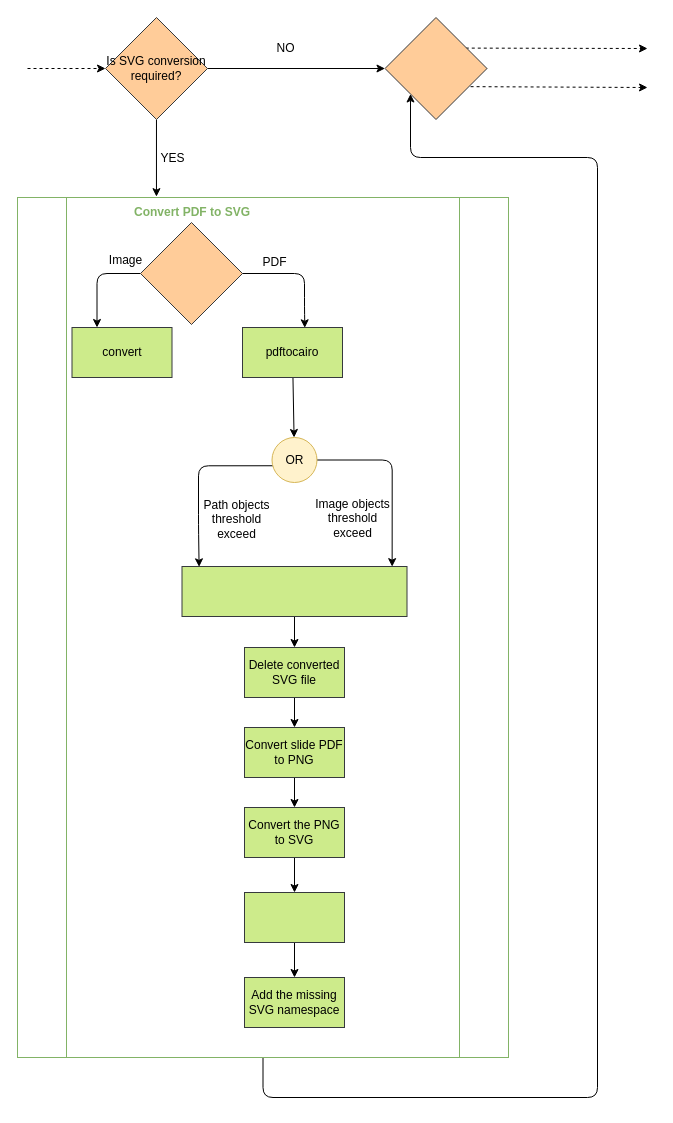
This 673x1123 diagram has some shape labels left out. The centre of each missing label's shape, as x and y in pixels:
Delete the temporary PNG: point (294, 917)
Fallback to rasterised SVG: point (294, 591)
Is mobile PNG required?: point (435, 68)
What format do we have?: point (191, 273)
